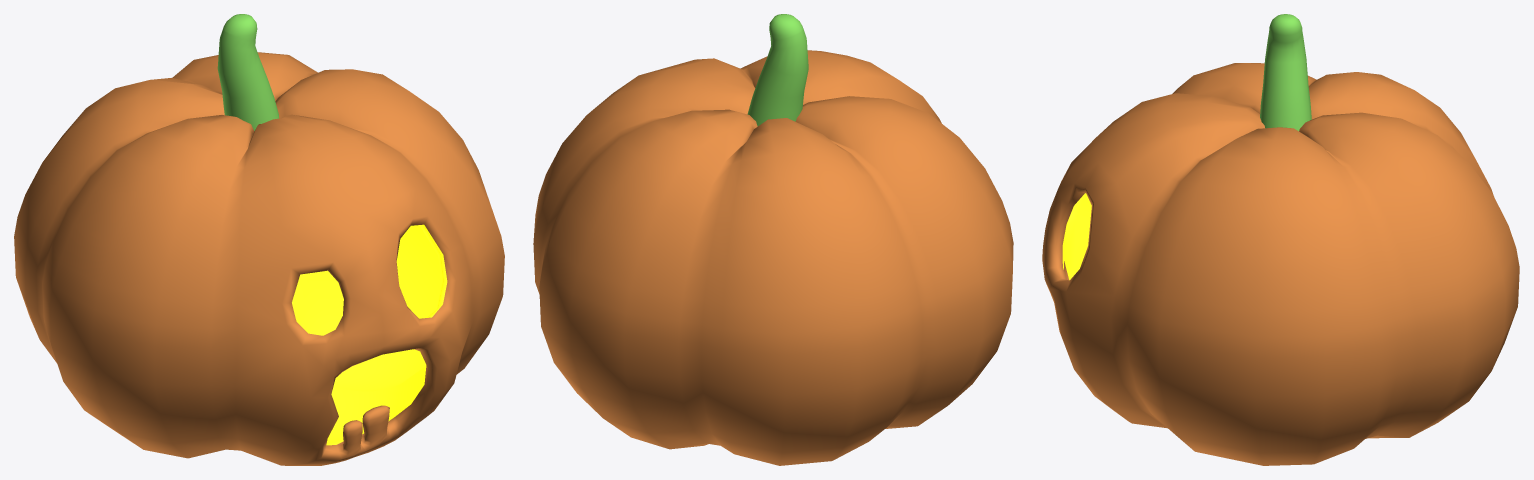
Rendered from new_pumpkin.fbx.
3 views of the same model, side by side, from view 1: azimuth 30°, elevation 25°; view 2: azimuth 150°, elevation 25°; view 3: azimuth 270°, elevation 25° (orthographic). The views are drawn at different scales.
Visible parts, largest first — view 1: Sphere; view 2: Sphere; view 3: Sphere.
Boxes of the visible parts, left/top/right/bottom form: Sphere: left=14, top=14, right=504, bottom=465; Sphere: left=533, top=14, right=1013, bottom=465; Sphere: left=1042, top=14, right=1519, bottom=465.
Bounding box in the file's own units: 202 × 180 × 202.
